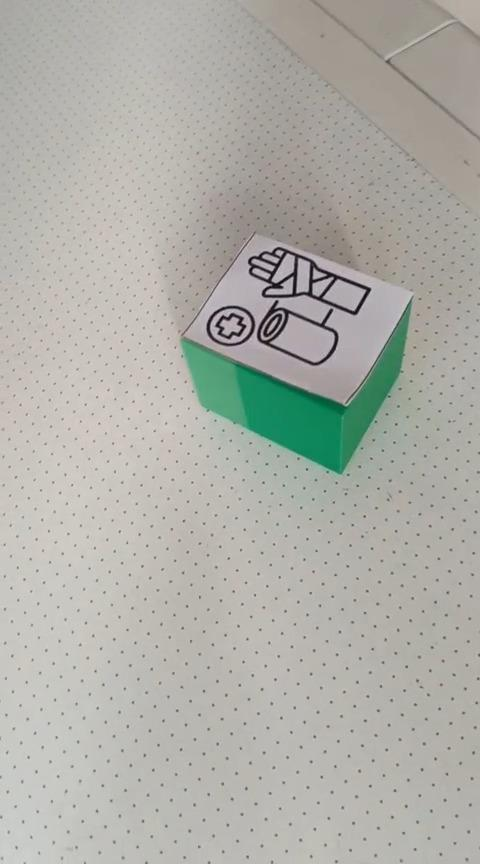Bandages: (179, 230, 414, 474)
